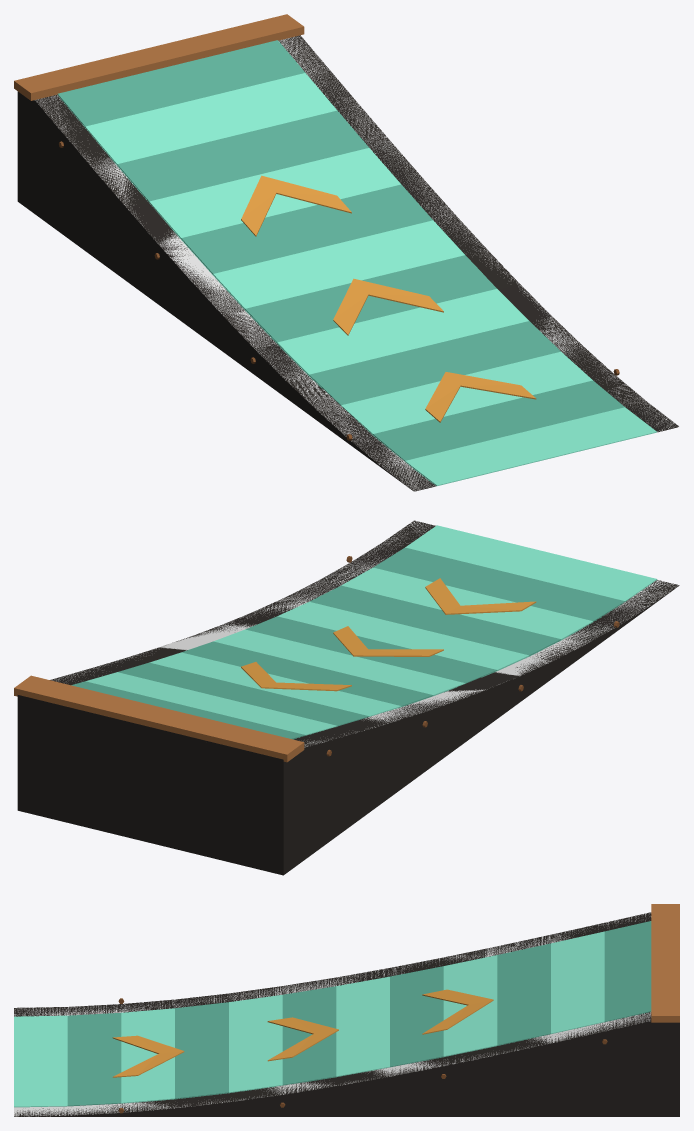
The model's file is camp_shortcut.glb.
3 views of the same model, one above another, from view 1: azimuth 30°, elevation 25°; view 2: azimuth 150°, elevation 25°; view 3: azimuth 270°, elevation 25° (orthographic). The views are drawn at different scales.
Parts seen in each view (by area): view 1: Body, camp_shortcut-col-col; view 2: Body, camp_shortcut-col-col; view 3: Body, camp_shortcut-col-col.
Part boxes in pixels (x1,y1,x2,y2): Body: (14, 14, 678, 491); camp_shortcut-col-col: (35, 36, 679, 491); Body: (14, 520, 679, 875); camp_shortcut-col-col: (52, 521, 678, 747); Body: (14, 904, 679, 1116); camp_shortcut-col-col: (14, 912, 651, 1116).
Bounding box in the file's own units: 7.4 × 3.15 × 18.6.
